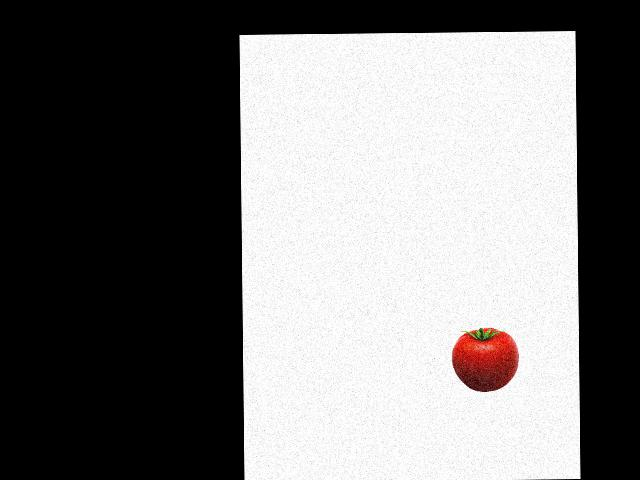tomato: (451, 327, 511, 392)
